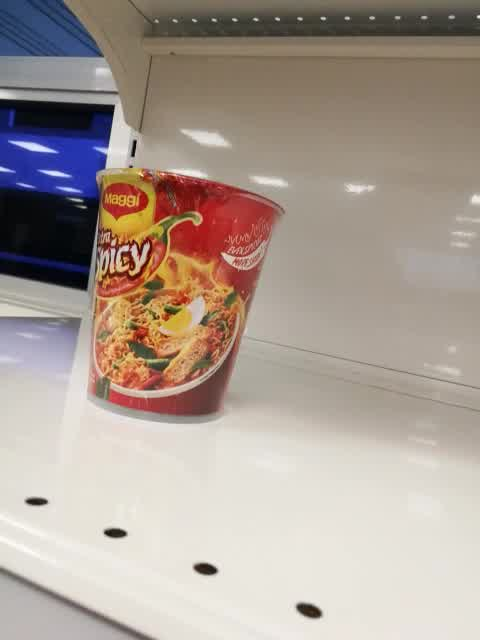maggi: (84, 167, 286, 426)
